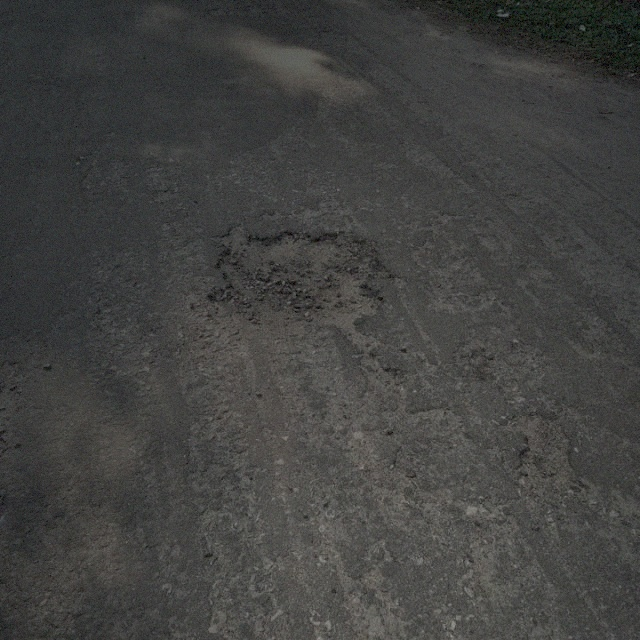pothole: (202, 221, 388, 343), (509, 413, 575, 488)
